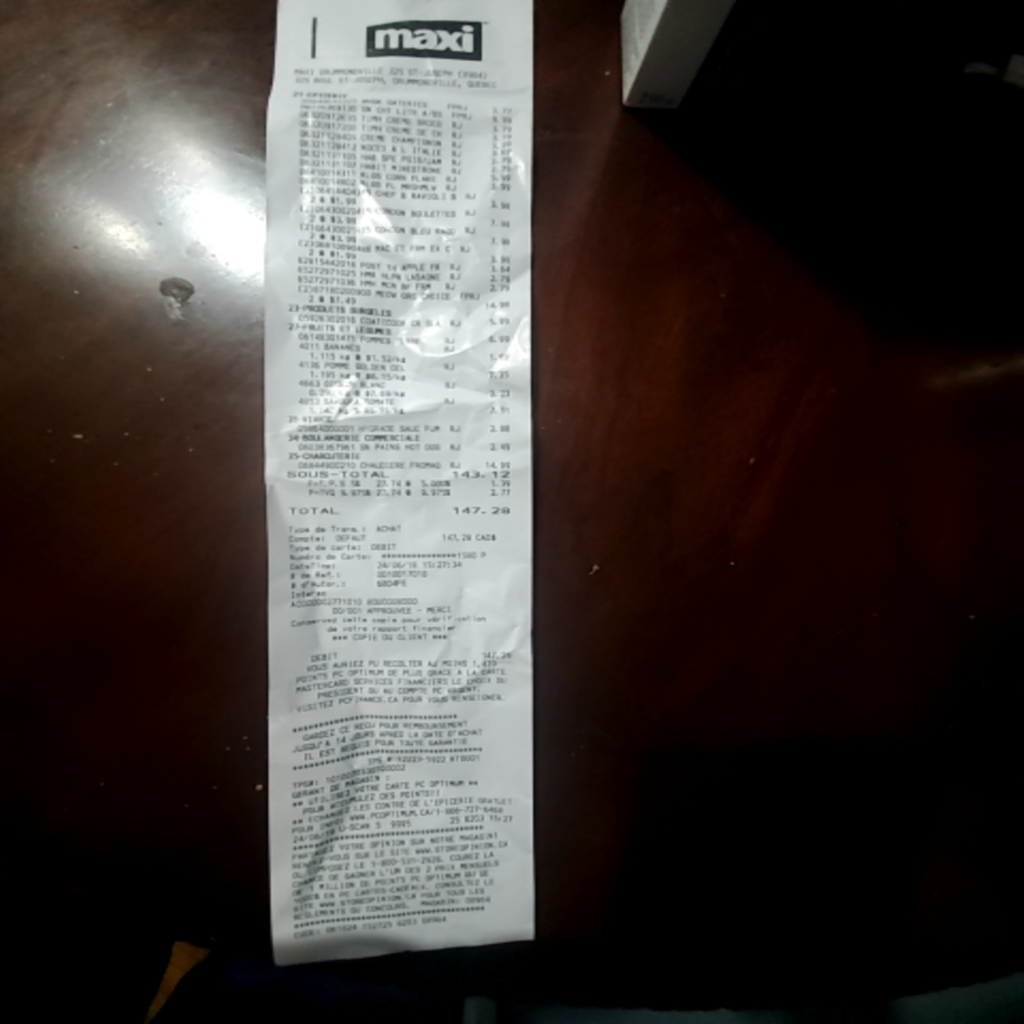recipt: (266, 0, 537, 965)
